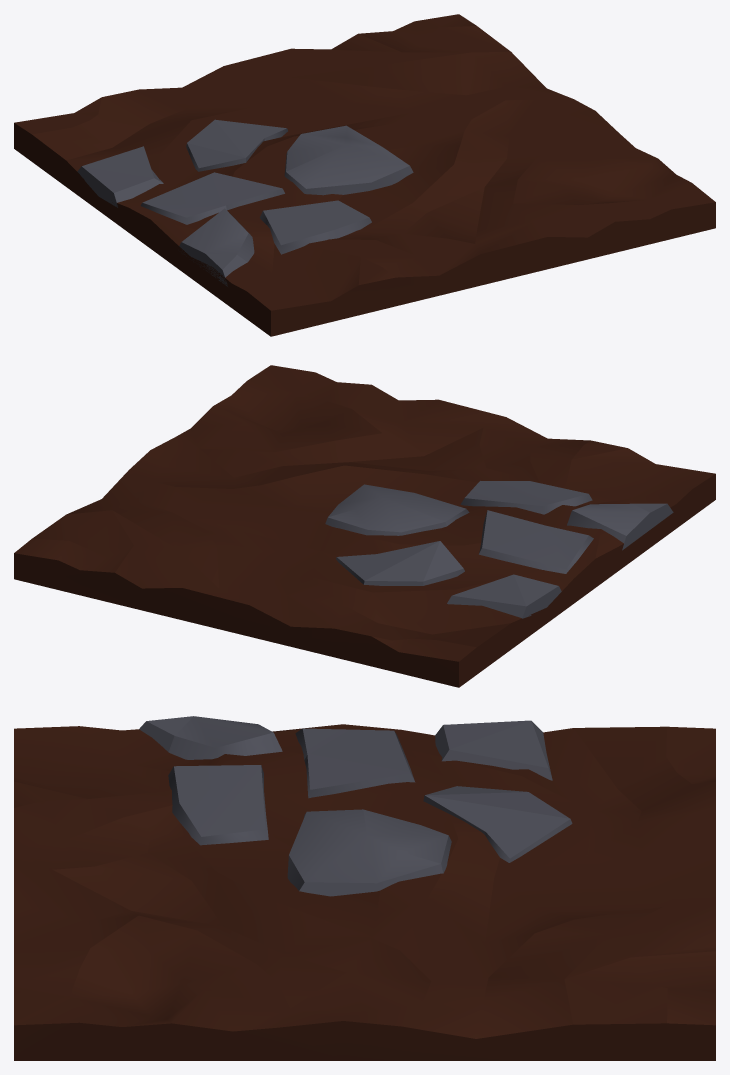
Rendered from Ground_Stone_Path_Ending_R.fbx.
3 renders of one model, top to bottom at view 1: azimuth 30°, elevation 25°; view 2: azimuth 150°, elevation 25°; view 3: azimuth 270°, elevation 25°, orthographic. The views are drawn at different scales.
Visible parts, largest first — view 1: Ground_Stone_Path_Ending_R; view 2: Ground_Stone_Path_Ending_R; view 3: Ground_Stone_Path_Ending_R.
Boxes of the visible parts, x1,y1,x2,y2 form: Ground_Stone_Path_Ending_R: [14, 14, 715, 336]; Ground_Stone_Path_Ending_R: [14, 365, 715, 687]; Ground_Stone_Path_Ending_R: [14, 716, 715, 1060].
Size of the model in its own units: 147 by 14.98 by 147.
